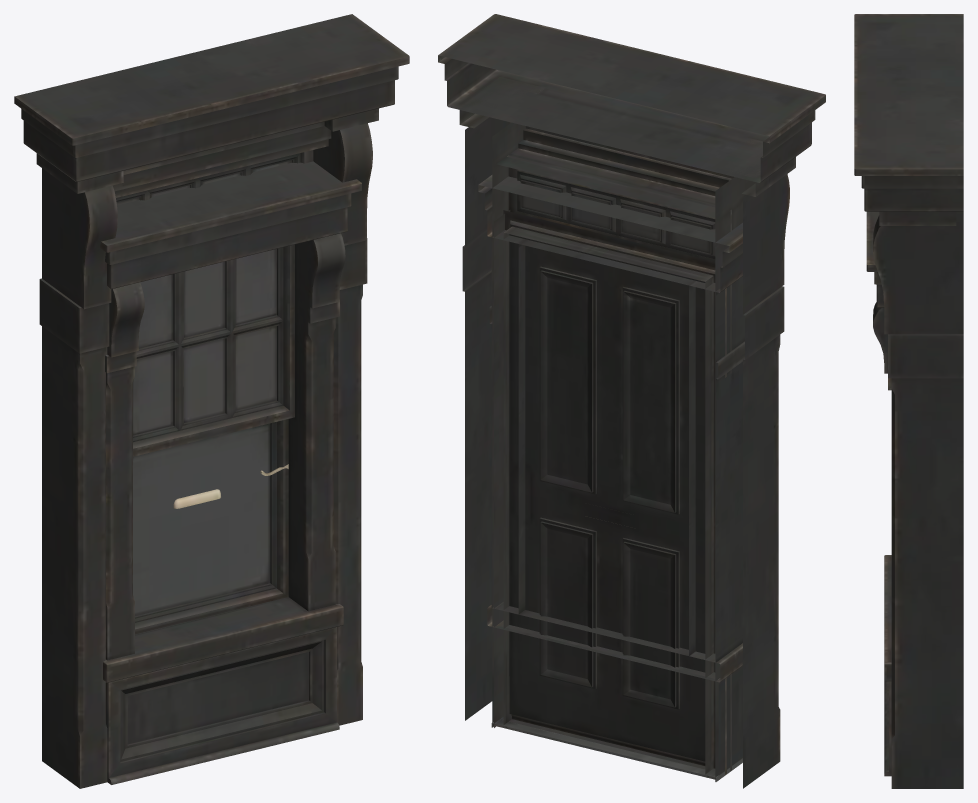
File: architectural-details.glb
3 views of the same model, side by side, from view 1: azimuth 30°, elevation 25°; view 2: azimuth 150°, elevation 25°; view 3: azimuth 270°, elevation 25° (orthographic). The views are drawn at different scales.
Parts seen in each view (by area): view 1: window_centered_small_01, door_centered_small_01; view 2: door_centered_small_02, door_centered_small_01, window_centered_small_01; view 3: door_centered_small_01, window_centered_small_01.
Part boxes in pixels (x1,y1,x2,y2): window_centered_small_01: (100, 161, 361, 784); door_centered_small_01: (14, 14, 409, 788); door_centered_small_02: (491, 210, 742, 781); door_centered_small_01: (438, 14, 825, 788); window_centered_small_01: (478, 175, 744, 779); door_centered_small_01: (854, 14, 963, 788); window_centered_small_01: (866, 211, 891, 776).
Size of the model in its own units: 1.48 by 2.81 by 0.44.
2 materials, 2 textured.
